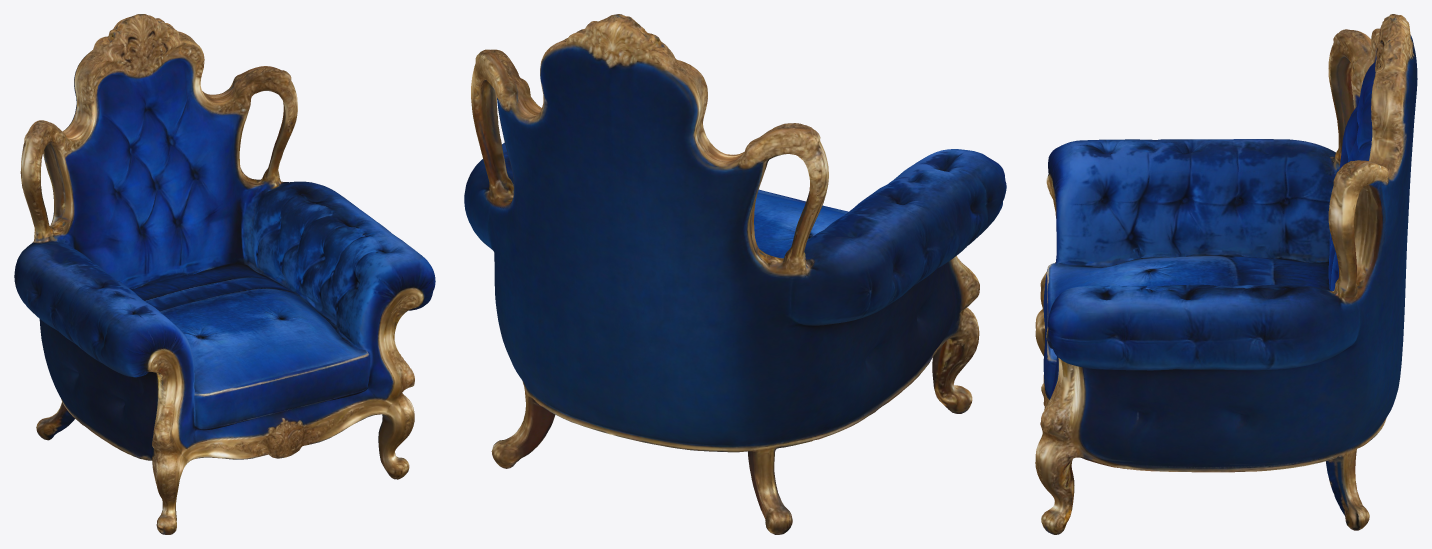
File: 1746182929840-blueSofa.glb
The picture shows the model from 3 angles, left to right: view 1: azimuth 30°, elevation 25°; view 2: azimuth 150°, elevation 25°; view 3: azimuth 270°, elevation 25°; orthographic projection. The views are drawn at different scales.
Parts seen in each view (by area): view 1: Mesh_0_Material_0_0; view 2: Mesh_0_Material_0_0; view 3: Mesh_0_Material_0_0.
Boxes of the visible parts, x1,y1,x2,y2 form: Mesh_0_Material_0_0: (14, 14, 435, 534); Mesh_0_Material_0_0: (464, 14, 1006, 534); Mesh_0_Material_0_0: (1035, 14, 1417, 534).
Size of the model in its own units: 0.9787 by 1.11 by 0.8487.
1 material, 1 textured.
